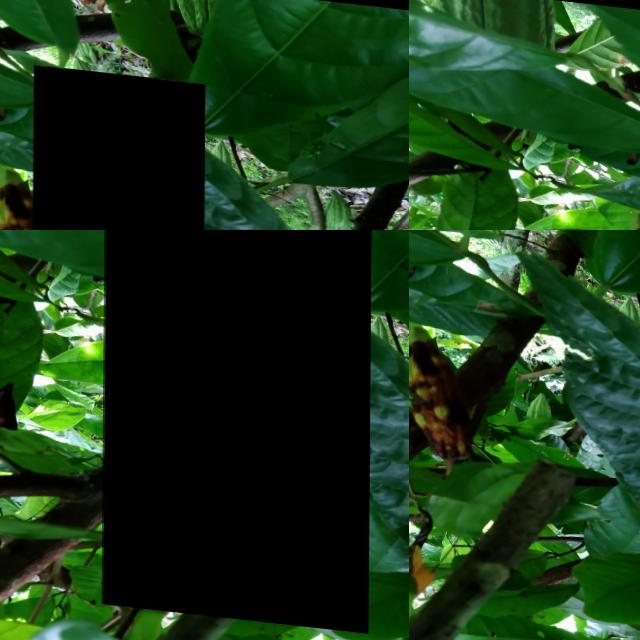Fitoftora: (102, 230, 371, 623), (32, 58, 205, 230), (409, 320, 475, 456)
Sana: (426, 128, 484, 186)
